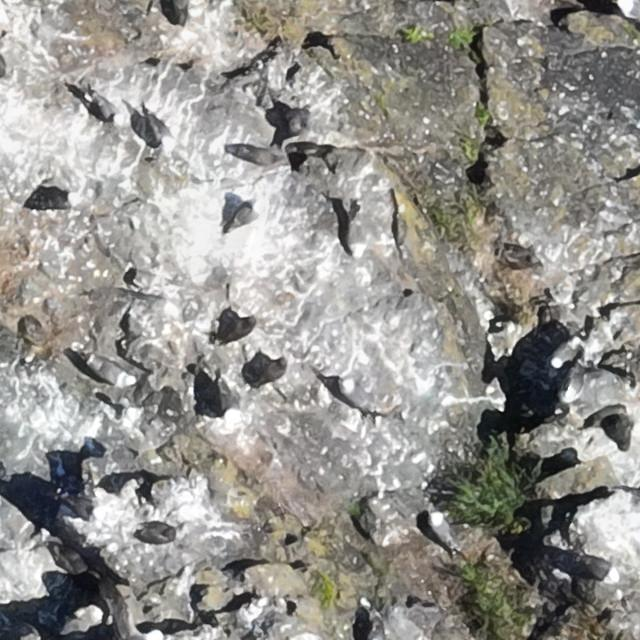umineko: (338, 373, 378, 418), (145, 111, 178, 157), (91, 92, 127, 134), (87, 356, 138, 384), (140, 521, 184, 550), (229, 198, 265, 232), (216, 382, 243, 426), (65, 605, 101, 634), (140, 296, 186, 317), (562, 366, 588, 403), (65, 194, 103, 219), (348, 211, 367, 260), (580, 556, 612, 579), (430, 512, 452, 544), (73, 501, 110, 520), (550, 340, 576, 365), (120, 405, 140, 423)
